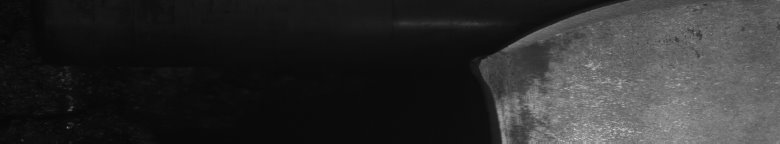kb: (466, 0, 702, 144)
